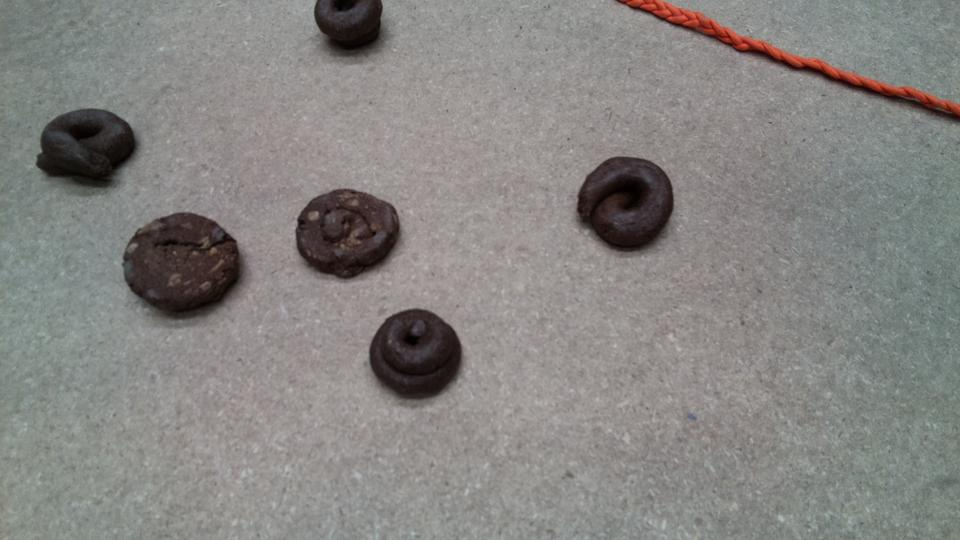poop: (119, 208, 245, 322), (293, 185, 403, 280), (573, 152, 676, 253), (365, 306, 465, 403), (33, 106, 140, 189), (311, 1, 387, 54)
rope: (636, 1, 958, 111)
